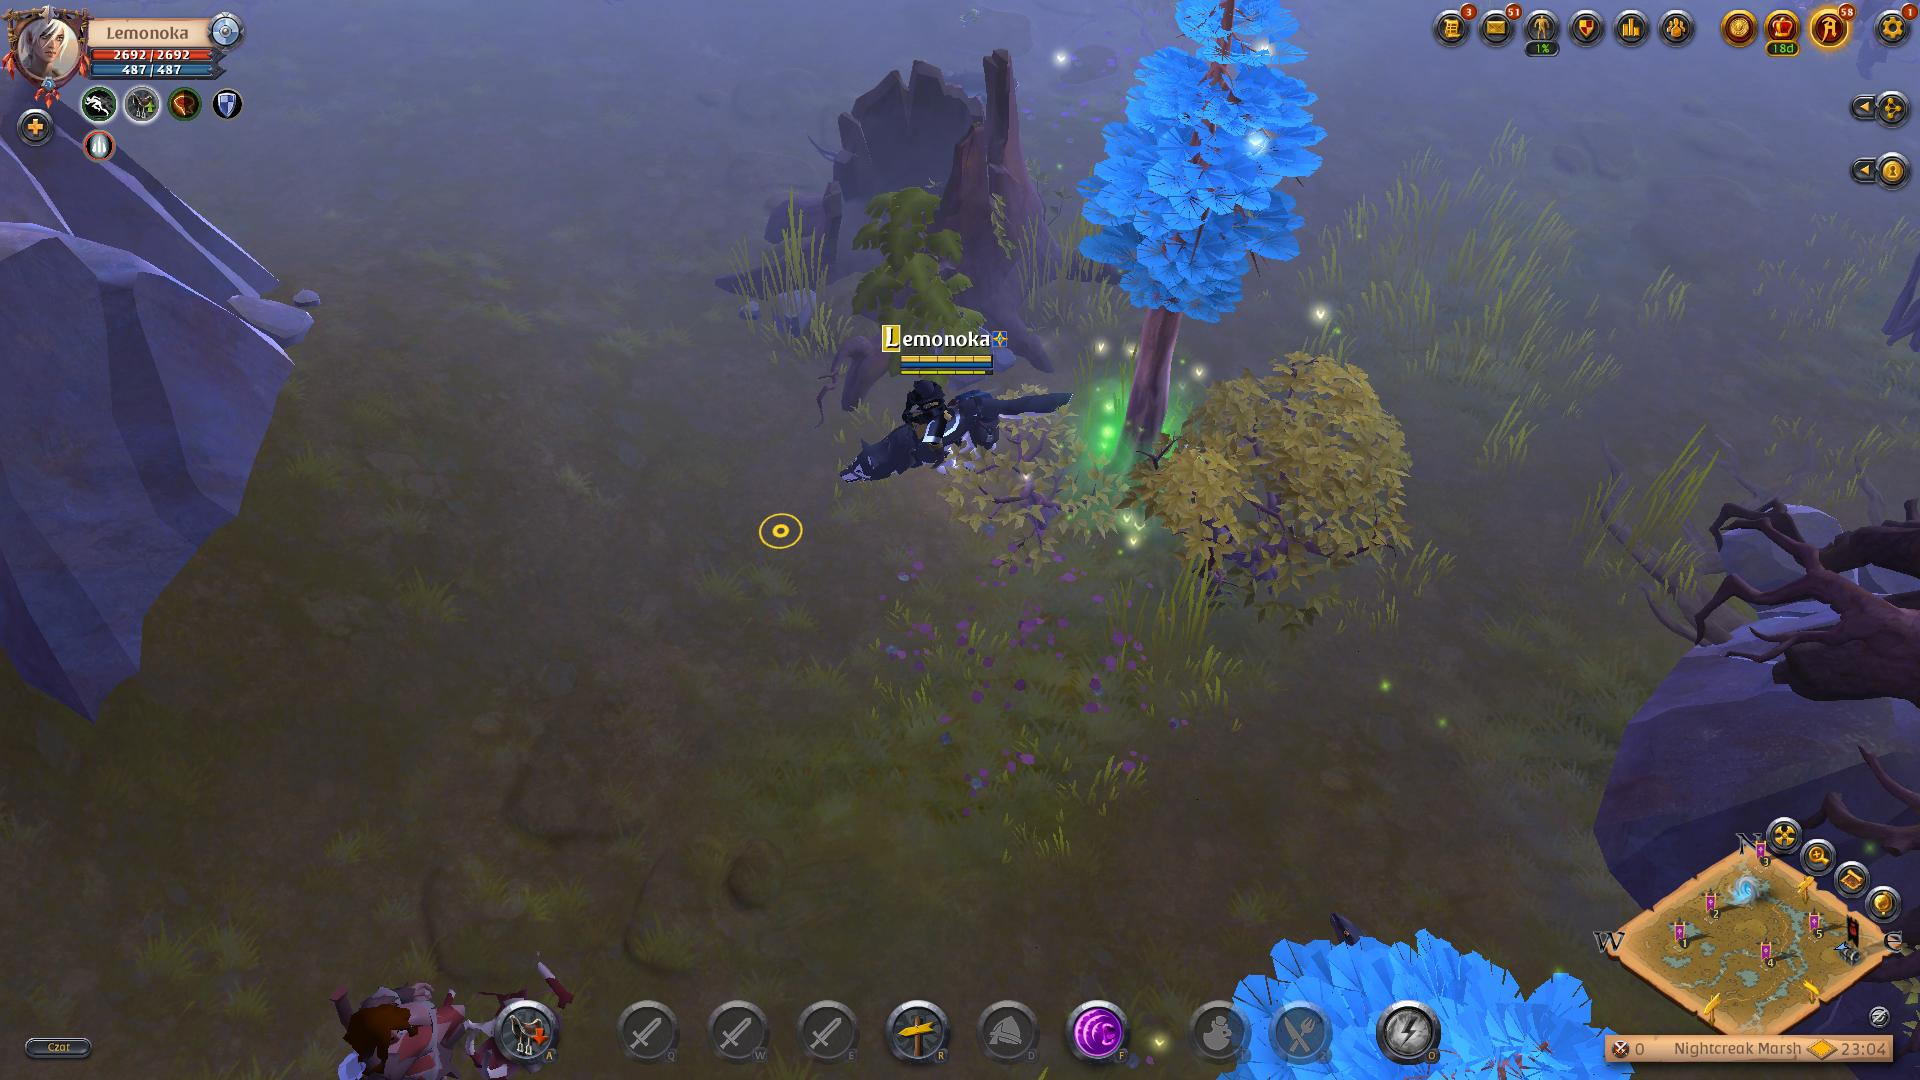wood tier 4: (1080, 0, 1331, 330)
